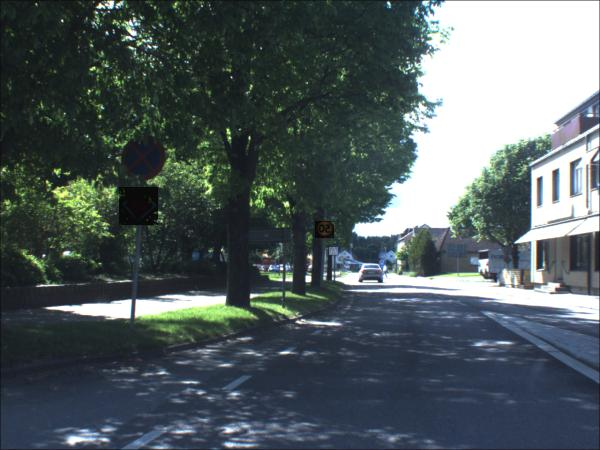50_SIGN: (315, 223, 335, 241)
PASS_RIGHT_SIDE: (379, 261, 385, 267)
PEDESTRIAN_CROSSING: (329, 248, 339, 257), (380, 254, 386, 261)
PRIORITY_ROAD: (119, 188, 159, 227), (339, 257, 344, 263)
